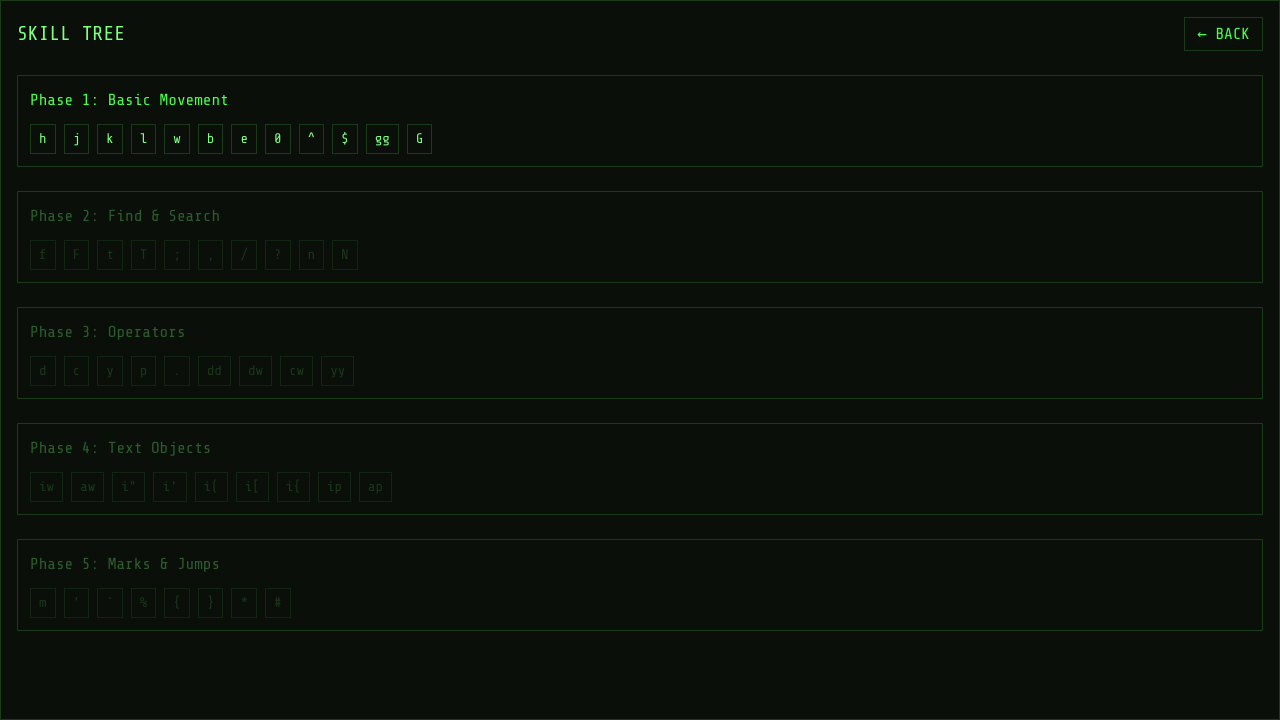
Test: SkillTreeScreen › clicking a different motion updates the tooltip
Click the button with test id "motion-h" at point(43, 139), box x1=30 y1=124 x2=56 y2=154
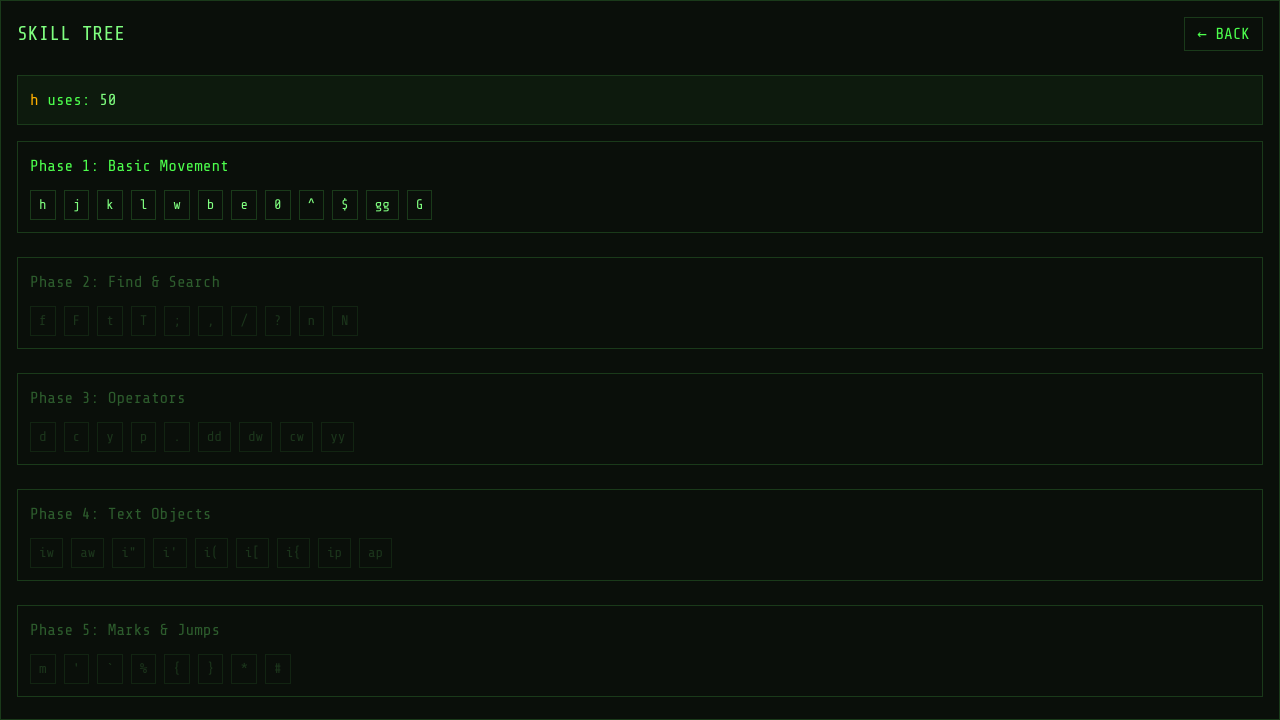
Now the text "50" is shown, box x1=99 y1=91 x2=116 y2=109
Click the button with test id "motion-j" at point(76, 205), box x1=64 y1=190 x2=89 y2=220
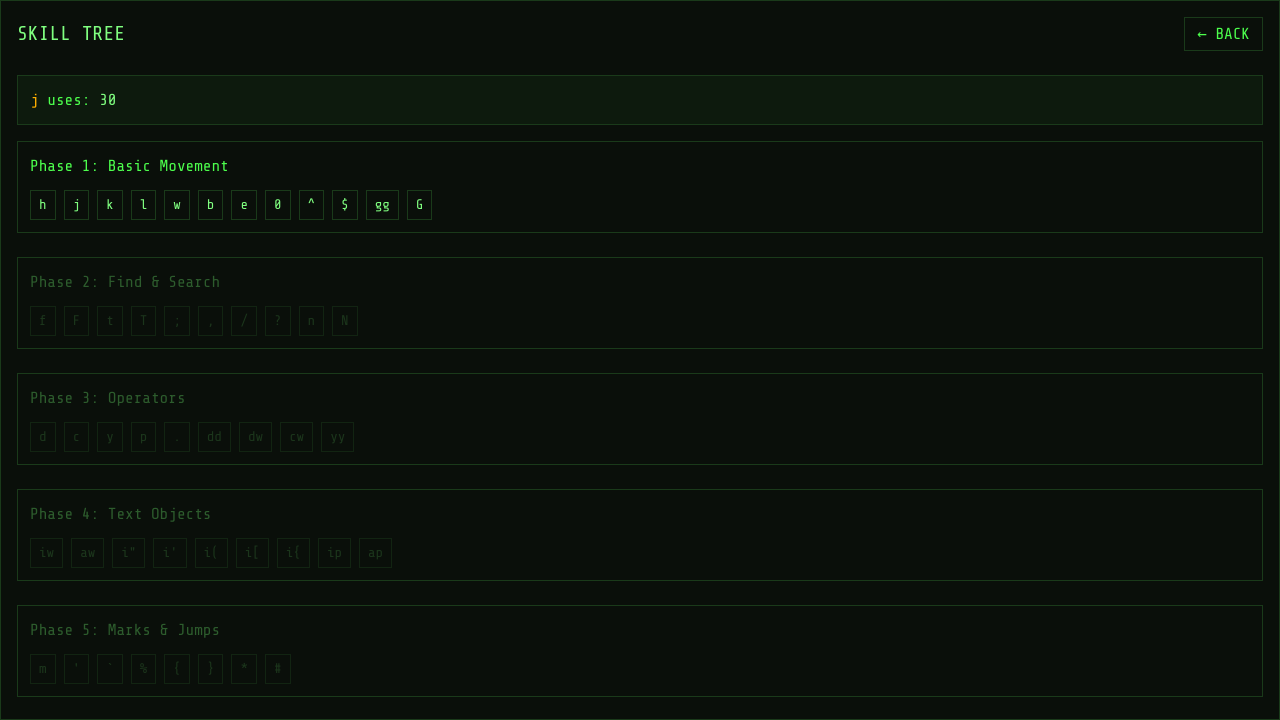
Now the text "30" is shown, box x1=99 y1=91 x2=116 y2=109
